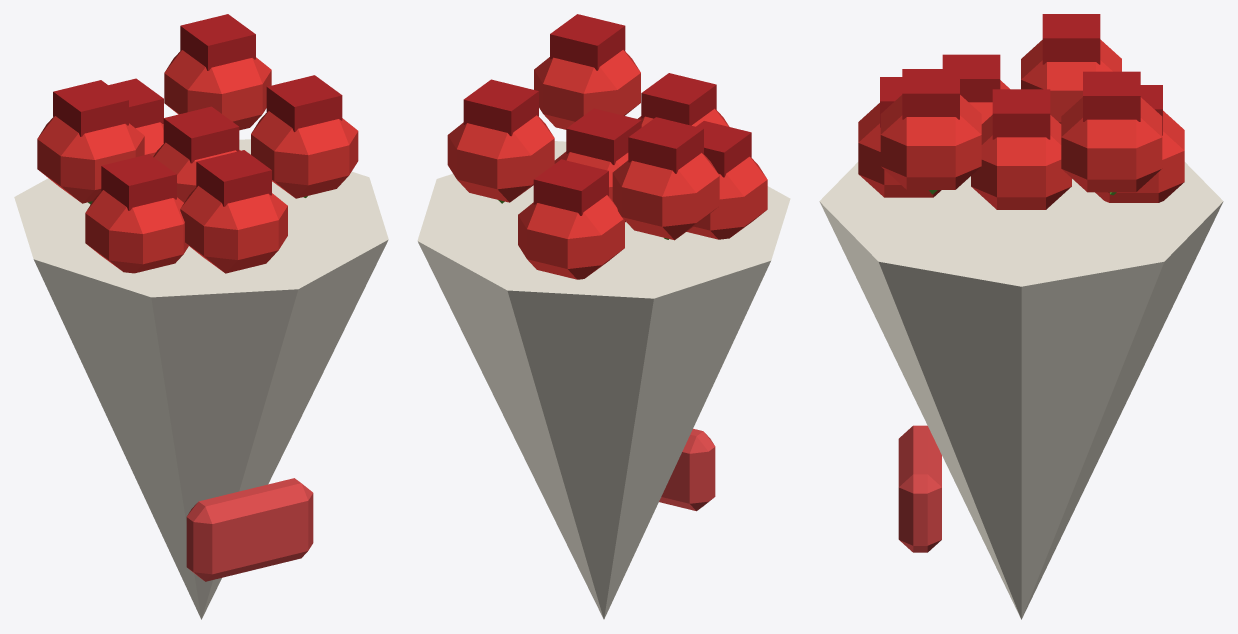
Rendered from RoseBouquet.fbx.
The picture shows the model from 3 angles, left to right: view 1: azimuth 30°, elevation 25°; view 2: azimuth 150°, elevation 25°; view 3: azimuth 270°, elevation 25°; orthographic projection. The views are drawn at different scales.
Parts seen in each view (by area): view 1: RoseBouquet; view 2: RoseBouquet; view 3: RoseBouquet.
Boxes of the visible parts, left/top/right/bottom form: RoseBouquet: left=14, top=14, right=388, bottom=619; RoseBouquet: left=417, top=14, right=790, bottom=619; RoseBouquet: left=819, top=14, right=1223, bottom=619.
Size of the model in its own units: 2.8 by 4.35 by 2.8.
1 material, 1 textured.
